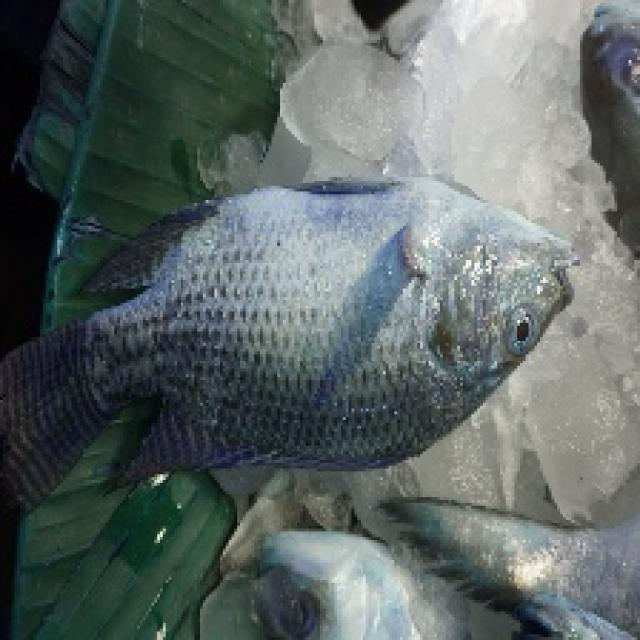Fresh: (58, 168, 580, 492)
